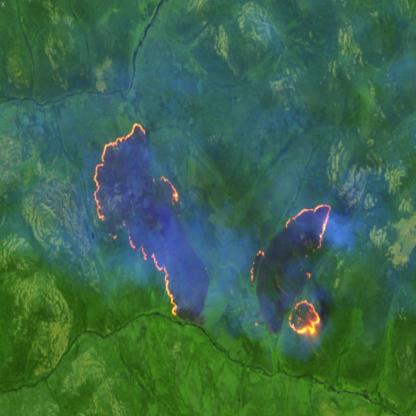fire: (90, 119, 181, 323), (247, 201, 332, 341)
